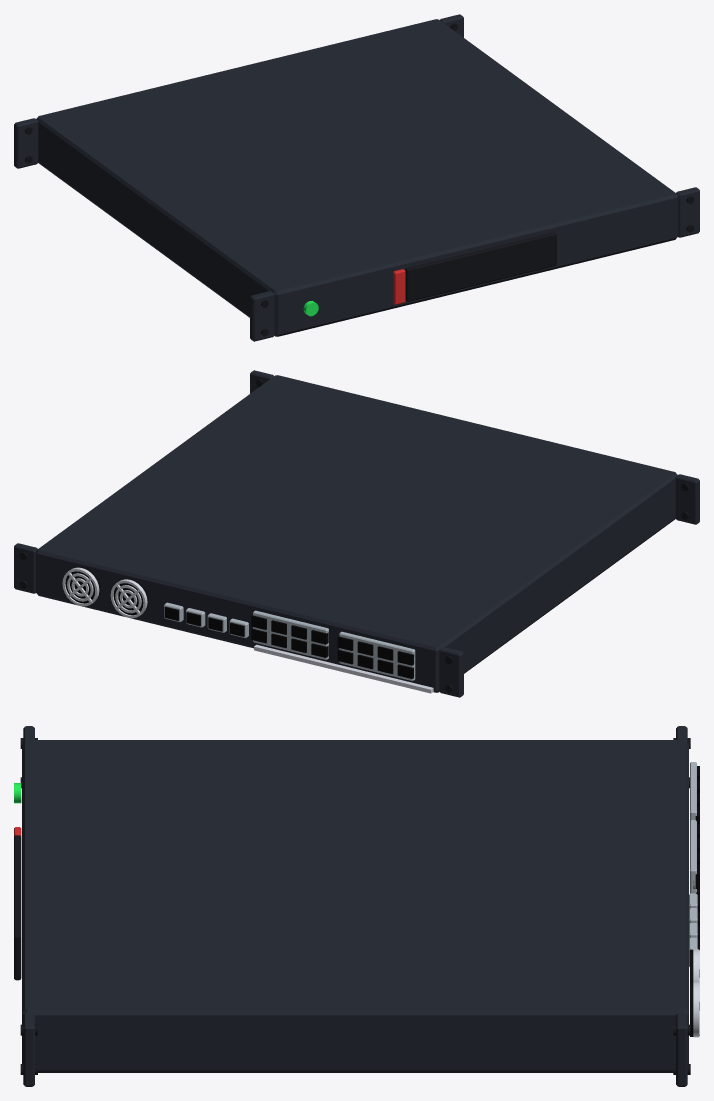
Rendered from dc_switch_1u.obj.
3 renders of one model, top to bottom at view 1: azimuth 30°, elevation 25°; view 2: azimuth 150°, elevation 25°; view 3: azimuth 270°, elevation 25°, orthographic. The views are drawn at different scales.
Parts seen in each view (by area): view 1: Switch_1U_Chassis_Switch_Slate_Chassis, Front_Switch_Display_Switch_Faceplate_Dark; view 2: Switch_1U_Chassis_Switch_Slate_Chassis, Rear_16xRJ45_And_4xSFP_Ports_Port_Cavity_Dark, Rear_16xRJ45_And_4xSFP_Ports_RJ45_SFP_Cage_Metal, Rear_Cooling_Fans_2x_Switch_Grille_Silver, Rear_16xRJ45_And_4xSFP_Ports_Switch_Grille_Silver, Rear_Cooling_Fans_2x_Port_Cavity_Dark; view 3: Switch_1U_Chassis_Switch_Slate_Chassis, Rear_16xRJ45_And_4xSFP_Ports_RJ45_SFP_Cage_Metal, Front_Switch_Display_Switch_Faceplate_Dark, Rear_Cooling_Fans_2x_Switch_Grille_Silver, Rear_16xRJ45_And_4xSFP_Ports_Port_Cavity_Dark.
Boxes of the visible parts, x1,y1,x2,y2 form: Switch_1U_Chassis_Switch_Slate_Chassis: [14, 14, 699, 341]; Front_Switch_Display_Switch_Faceplate_Dark: [405, 232, 556, 301]; Switch_1U_Chassis_Switch_Slate_Chassis: [14, 370, 699, 697]; Rear_16xRJ45_And_4xSFP_Ports_Port_Cavity_Dark: [164, 606, 414, 678]; Rear_16xRJ45_And_4xSFP_Ports_RJ45_SFP_Cage_Metal: [164, 602, 415, 680]; Rear_Cooling_Fans_2x_Switch_Grille_Silver: [62, 567, 147, 618]; Rear_16xRJ45_And_4xSFP_Ports_Switch_Grille_Silver: [254, 644, 433, 693]; Rear_Cooling_Fans_2x_Port_Cavity_Dark: [65, 566, 148, 615]; Switch_1U_Chassis_Switch_Slate_Chassis: [22, 726, 688, 1086]; Rear_16xRJ45_And_4xSFP_Ports_RJ45_SFP_Cage_Metal: [689, 762, 697, 966]; Front_Switch_Display_Switch_Faceplate_Dark: [14, 835, 21, 980]; Rear_Cooling_Fans_2x_Switch_Grille_Silver: [693, 949, 699, 1037]; Rear_16xRJ45_And_4xSFP_Ports_Port_Cavity_Dark: [693, 766, 699, 950].
Bounding box in the file's own units: 0.492 × 0.048 × 0.473.
